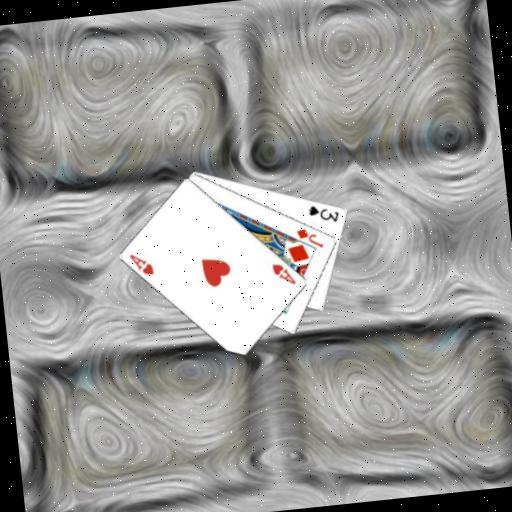3S: (305, 201, 341, 227)
AH: (126, 249, 156, 279), (269, 259, 298, 289)
JD: (294, 224, 326, 252)
